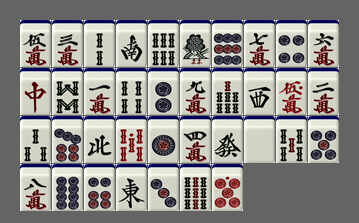0m: (276, 68, 307, 115)
0p: (212, 164, 243, 211)
0s: (116, 116, 147, 163)
1m: (84, 68, 115, 115)
1p: (148, 116, 179, 163)
1s: (180, 20, 211, 67)
1z: (116, 164, 147, 211)
2m: (308, 68, 339, 115)
2p: (148, 68, 179, 115)
2s: (84, 20, 115, 67)
2z: (116, 20, 147, 67)
3m: (52, 20, 83, 67)
3p: (148, 164, 179, 211)
3s: (20, 116, 51, 163)
3z: (244, 68, 275, 115)
4m: (180, 116, 211, 163)
4p: (276, 20, 307, 67)
4s: (116, 68, 147, 115)
4z: (84, 116, 115, 163)
5m: (20, 20, 51, 67)
5p: (308, 116, 339, 163)
5s: (276, 116, 307, 163)
5z: (244, 116, 275, 163)
6m: (308, 20, 339, 67)
6p: (84, 164, 115, 211)
6s: (148, 20, 179, 67)
6z: (212, 116, 243, 163)
7m: (244, 20, 275, 67)
7p: (52, 116, 83, 163)
7s: (212, 68, 243, 115)
7z: (20, 68, 51, 115)
8m: (20, 164, 51, 211)
8p: (52, 164, 83, 211)
8s: (52, 68, 83, 115)
9m: (180, 68, 211, 115)
9p: (212, 20, 243, 67)
9s: (180, 164, 211, 211)
